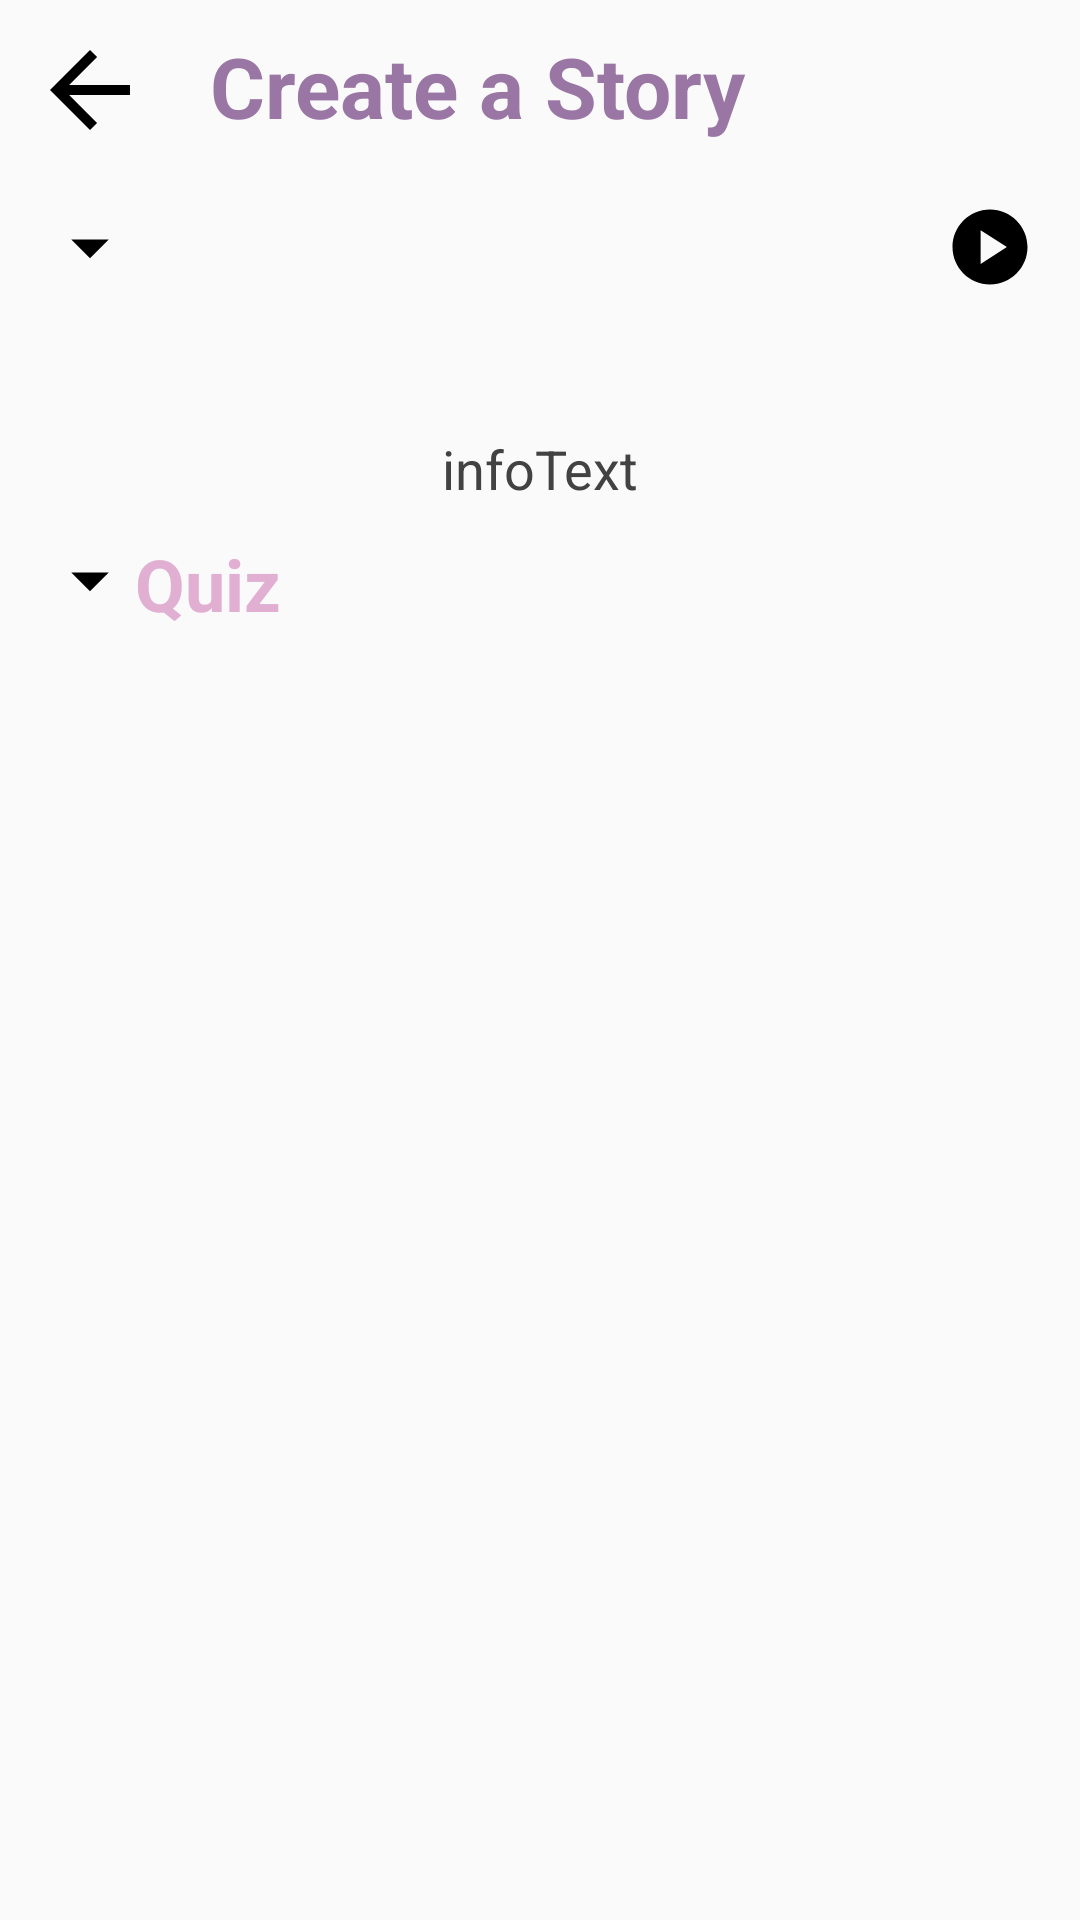

Screen size 1080px x 1920px. Icon name, then its box in pixels as (x1, y1, x2, y2):
arrow back: (50, 50, 130, 130)
arrow drop down: (71, 239, 109, 258), (71, 572, 109, 591)
play circle: (952, 209, 1028, 285)
